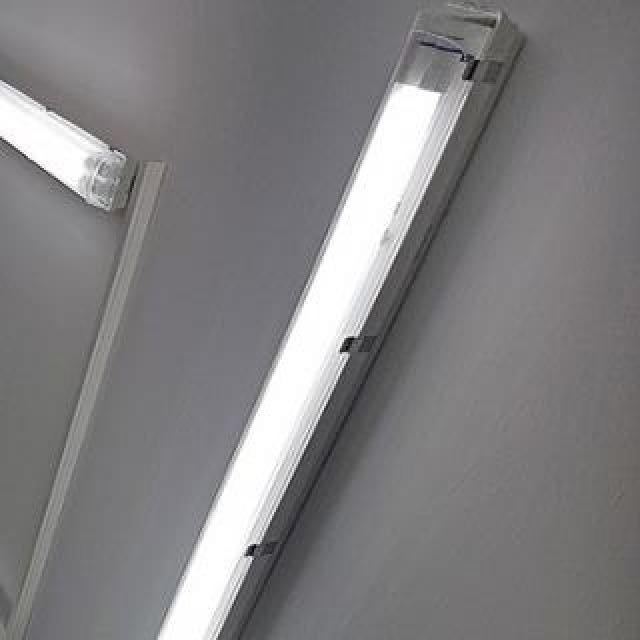fluorescent tube: (76, 0, 514, 640), (0, 0, 140, 234), (0, 378, 6, 640)
